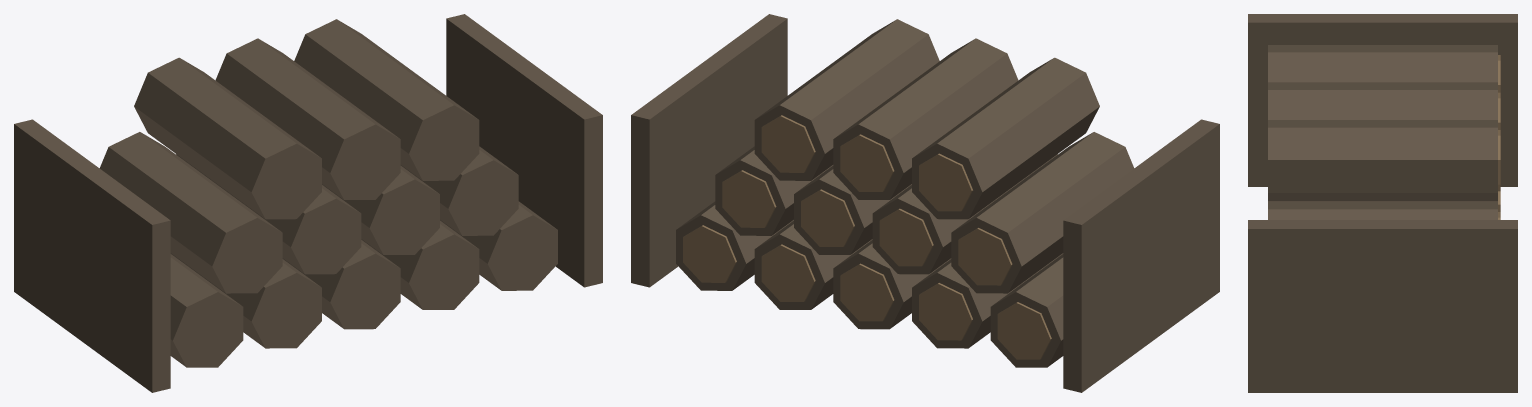
The model's file is Decor_Firewood.fbx.
3 views of the same model, side by side, from view 1: azimuth 30°, elevation 25°; view 2: azimuth 150°, elevation 25°; view 3: azimuth 270°, elevation 25° (orthographic). The views are drawn at different scales.
Parts seen in each view (by area): view 1: Decor_Firewood; view 2: Decor_Firewood; view 3: Decor_Firewood.
Boxes of the visible parts, bbox=[...] form: Decor_Firewood: bbox=[14, 14, 602, 392]; Decor_Firewood: bbox=[631, 14, 1219, 392]; Decor_Firewood: bbox=[1248, 14, 1517, 392].
Size of the model in its own units: 2.92 by 1.27 by 1.55.
